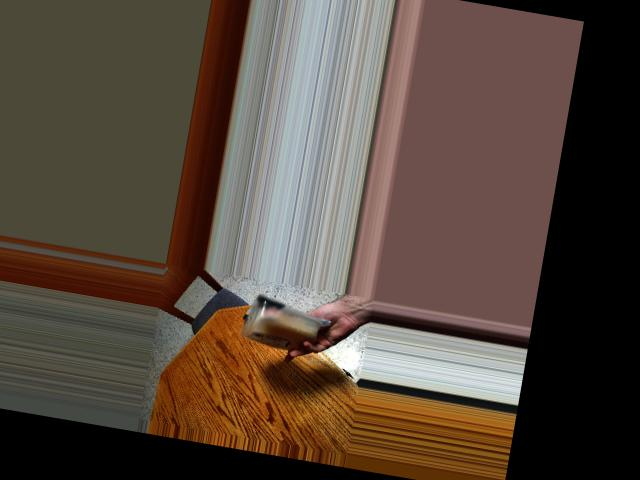cheese: (245, 299, 318, 352)
